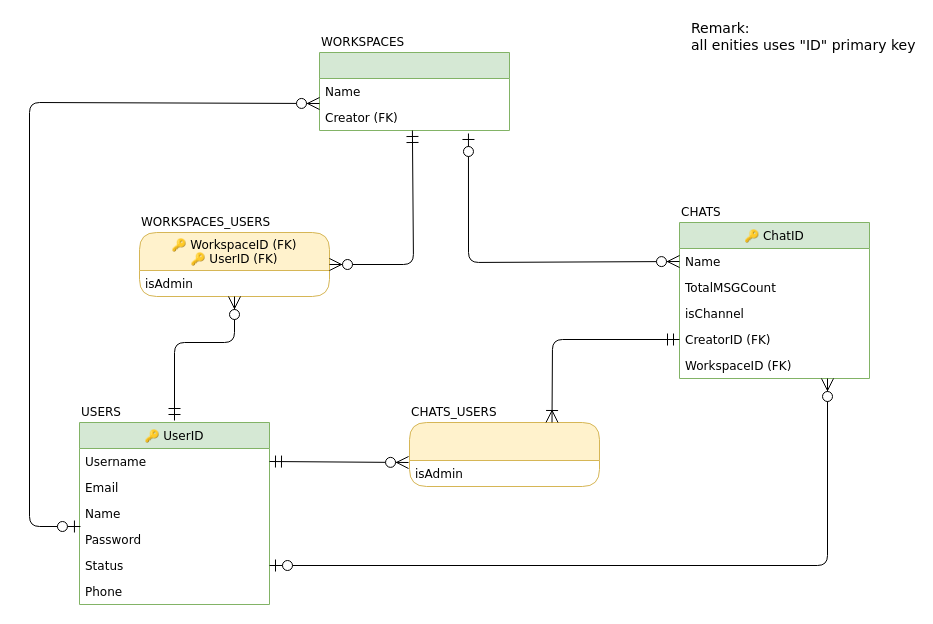
This 933x624 diagram has some shape labels left out. The shapes that lost their labels are listed below. From the top down, each one's box as (x1, y1, x2, y2) in pixels, then its label:
(318, 52, 510, 130): 🔑 WorkspaceID
(408, 422, 600, 486): 🔑 ChatID (FK) 🔑 UserID (FK)
